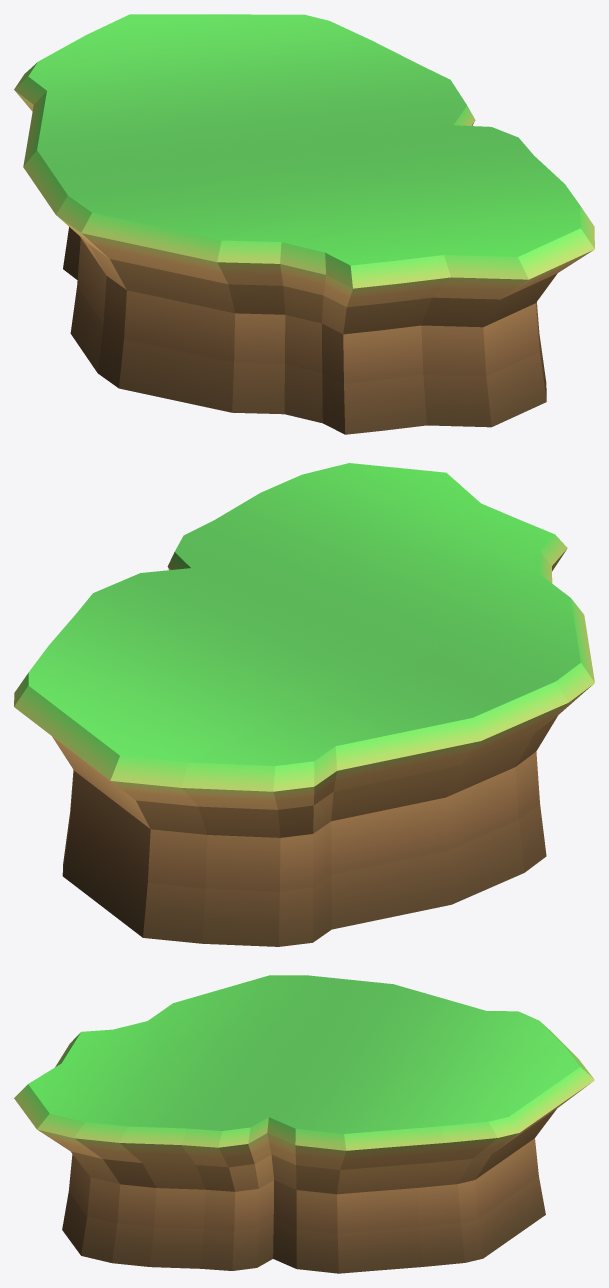
The model's file is Terrain_Level_Selection.fbx.
3 renders of one model, top to bottom at view 1: azimuth 30°, elevation 25°; view 2: azimuth 150°, elevation 25°; view 3: azimuth 270°, elevation 25°, orthographic. The views are drawn at different scales.
Visible parts, largest first — view 1: Terrain Level Selection; view 2: Terrain Level Selection; view 3: Terrain Level Selection.
Boxes of the visible parts, x1,y1,x2,y2 form: Terrain Level Selection: [14, 14, 594, 434]; Terrain Level Selection: [14, 463, 594, 946]; Terrain Level Selection: [14, 975, 594, 1273].
Bounding box in the file's own units: 5338 × 2230 × 7862.
Materials: 1 (1 with a texture image).
